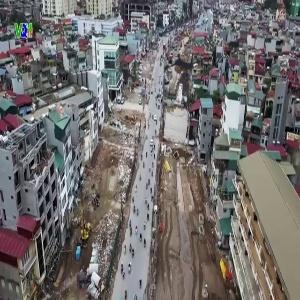drone: (152, 36, 218, 102)
